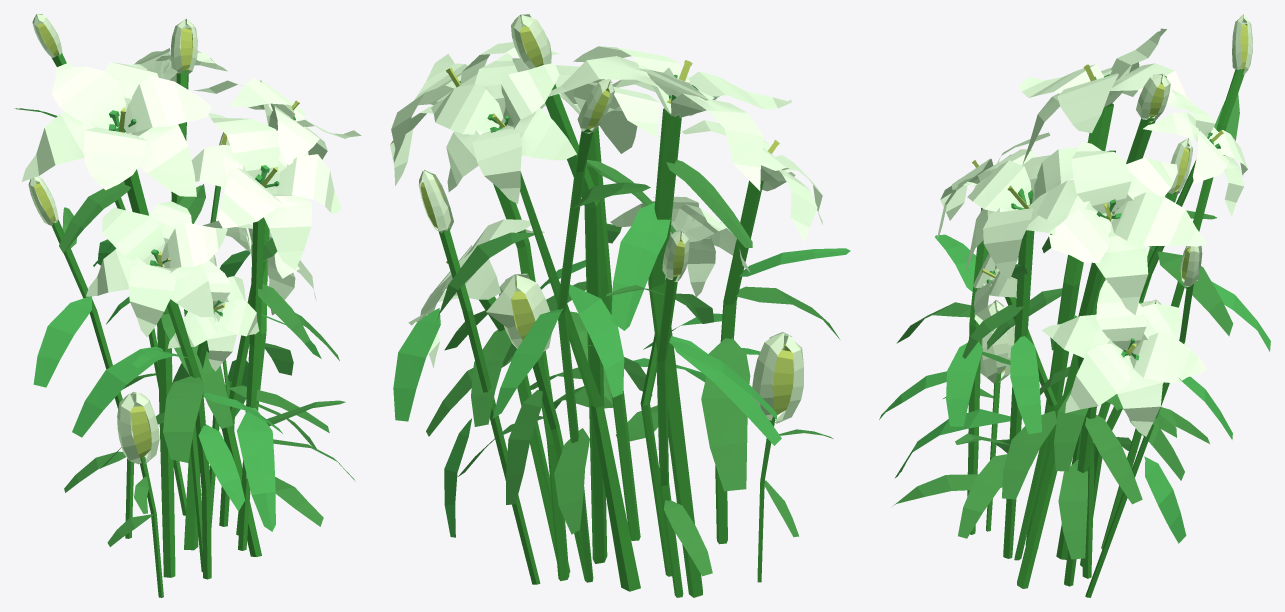
The model's file is flower04.glb.
The picture shows the model from 3 angles, left to right: view 1: azimuth 30°, elevation 25°; view 2: azimuth 150°, elevation 25°; view 3: azimuth 270°, elevation 25°; orthographic projection. The views are drawn at different scales.
Parts seen in each view (by area): view 1: Flower04Plant; view 2: Flower04Plant; view 3: Flower04Plant.
Part boxes in pixels (x1,y1,x2,y2): Flower04Plant: (14, 14, 361, 597); Flower04Plant: (390, 14, 850, 597); Flower04Plant: (879, 14, 1270, 597).
Bounding box in the file's own units: 0.5241 × 0.8248 × 0.5649.
Materials: 1 (1 with a texture image).
